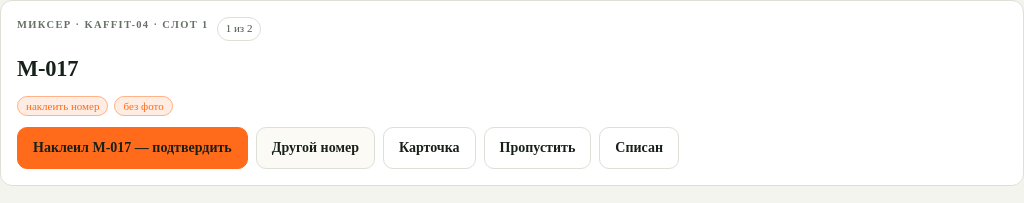
Очередь «Наклеить номер» — по одному узлу › показывает первый узел, «Наклеил» подтверждает наклейку и обновляет страницу
Expected: the heading "M-017" is shown, [17,56,78,81]
Expected: the text "1 из 2" is shown, [217,17,261,41]
Click the button "Наклеил M-017 — подтвердить".
click(132, 148)  # box [17,127,248,169]
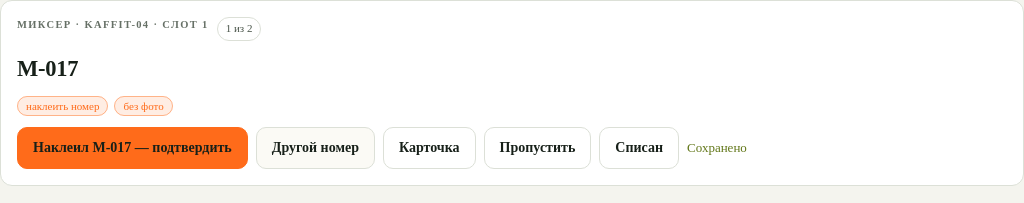
Result: the text "Сохранено" is shown at [687,138,747,157]
